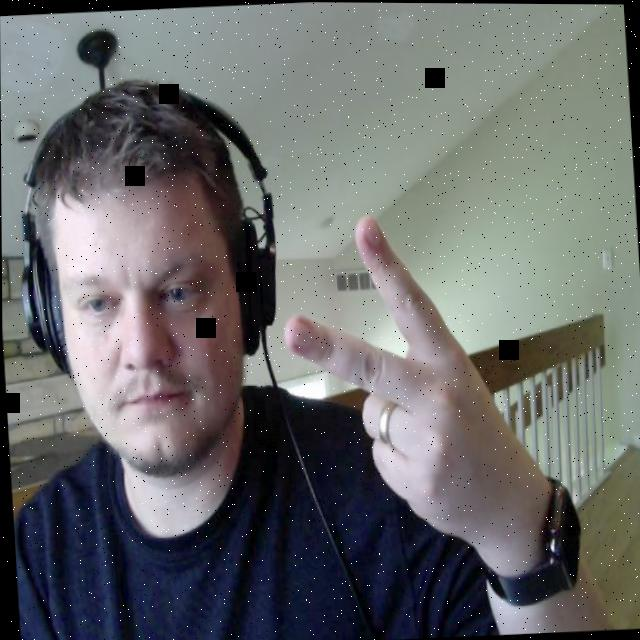Scissors: (276, 204, 559, 574)
